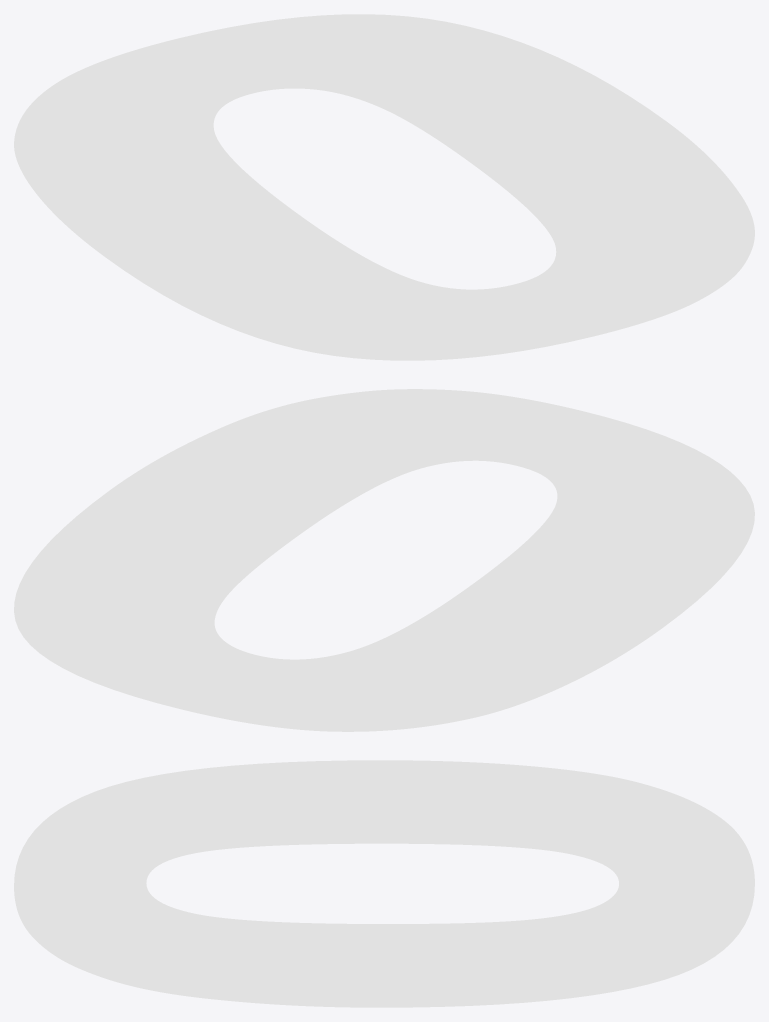
The picture shows the model from 3 angles, top to bottom: view 1: azimuth 30°, elevation 25°; view 2: azimuth 150°, elevation 25°; view 3: azimuth 270°, elevation 25°; orthographic projection. The views are drawn at different scales.
Parts seen in each view (by area): view 1: テキスト; view 2: テキスト; view 3: テキスト.
Part boxes in pixels (bbox=[...]): テキスト: bbox=[14, 14, 754, 360]; テキスト: bbox=[14, 389, 754, 731]; テキスト: bbox=[14, 760, 754, 1007].
Size of the model in its own units: 0.4208 by 0 by 0.5325.
1 material, 1 textured.
